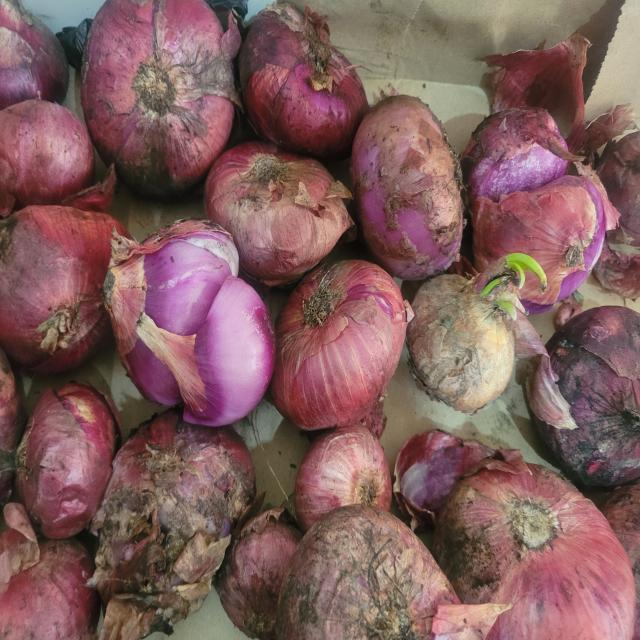mechanical_damage: (101, 201, 278, 436), (462, 93, 619, 303)
